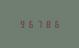eight: (42, 20, 49, 28)
nine: (18, 20, 25, 28)
seven: (34, 20, 41, 28)
six: (26, 20, 33, 28), (50, 20, 57, 28)
